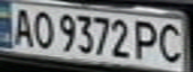2: (109, 16, 133, 60)
3: (72, 12, 93, 55)
7: (90, 14, 112, 56)
9: (54, 10, 78, 53)
A: (6, 4, 36, 47)
C: (154, 20, 187, 64)
O: (30, 8, 57, 50)
P: (130, 18, 163, 62)
